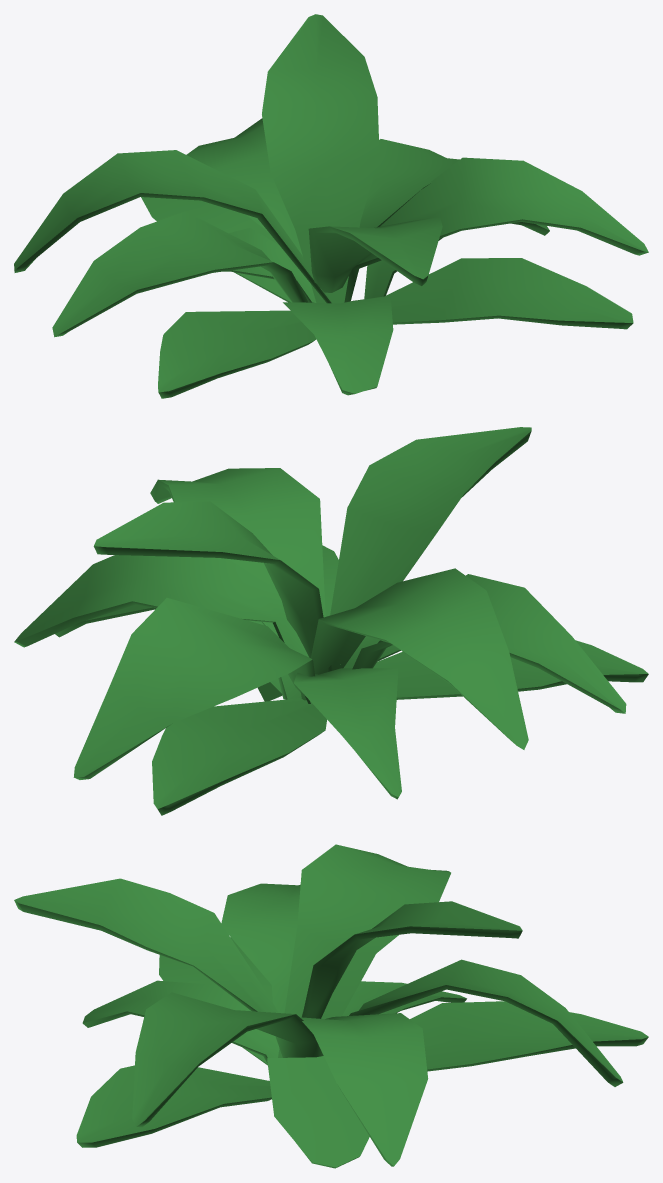
File: Bush 01.FBX
The picture shows the model from 3 angles, top to bottom: view 1: azimuth 30°, elevation 25°; view 2: azimuth 150°, elevation 25°; view 3: azimuth 270°, elevation 25°; orthographic projection. The views are drawn at different scales.
Visible parts, largest first — view 1: Bush 01; view 2: Bush 01; view 3: Bush 01.
Part boxes in pixels (x1=…): Bush 01: x1=14, y1=14, x2=648, y2=398; Bush 01: x1=14, y1=427, x2=648, y2=815; Bush 01: x1=14, y1=844, x2=648, y2=1168.
Bounding box in the file's own units: 445 × 178 × 478.
